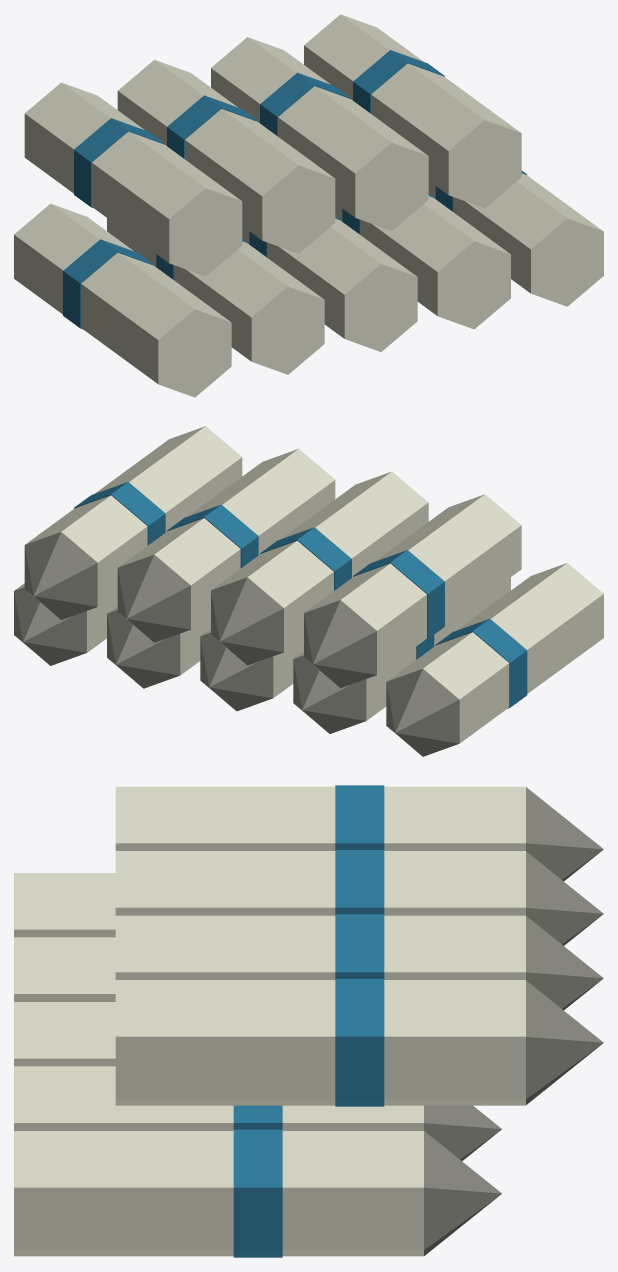
The model's file is ce_ammo_chcells_ion_b.obj.
The picture shows the model from 3 angles, top to bottom: view 1: azimuth 30°, elevation 25°; view 2: azimuth 150°, elevation 25°; view 3: azimuth 270°, elevation 25°; orthographic projection. The views are drawn at different scales.
Parts seen in each view (by area): view 1: ce_ammo_chcells_ion_b_20, ce_ammo_chcells_ion_b_0, ce_ammo_chcells_ion_b_24, ce_ammo_chcells_ion_b_32, ce_ammo_chcells_ion_b_28, ce_ammo_chcells_ion_b_8, ce_ammo_chcells_ion_b_4, ce_ammo_chcells_ion_b_12, ce_ammo_chcells_ion_b_16, ce_ammo_chcells_ion_b_22, ce_ammo_chcells_ion_b_2, ce_ammo_chcells_ion_b_26 (+8 smaller); view 2: ce_ammo_chcells_ion_b_0, ce_ammo_chcells_ion_b_20, ce_ammo_chcells_ion_b_28, ce_ammo_chcells_ion_b_32, ce_ammo_chcells_ion_b_24, ce_ammo_chcells_ion_b_2, ce_ammo_chcells_ion_b_22, ce_ammo_chcells_ion_b_34, ce_ammo_chcells_ion_b_30, ce_ammo_chcells_ion_b_26, ce_ammo_chcells_ion_b_3, ce_ammo_chcells_ion_b_31 (+17 smaller); view 3: ce_ammo_chcells_ion_b_32, ce_ammo_chcells_ion_b_16, ce_ammo_chcells_ion_b_34, ce_ammo_chcells_ion_b_18, ce_ammo_chcells_ion_b_24, ce_ammo_chcells_ion_b_20, ce_ammo_chcells_ion_b_28, ce_ammo_chcells_ion_b_12, ce_ammo_chcells_ion_b_22, ce_ammo_chcells_ion_b_26, ce_ammo_chcells_ion_b_30, ce_ammo_chcells_ion_b_0 (+15 smaller).
Boxes of the visible parts, x1,y1,x2,y2 form: ce_ammo_chcells_ion_b_20: (91, 131, 242, 276); ce_ammo_chcells_ion_b_0: (81, 252, 231, 397); ce_ammo_chcells_ion_b_24: (185, 109, 335, 253); ce_ammo_chcells_ion_b_32: (371, 63, 521, 208); ce_ammo_chcells_ion_b_28: (278, 86, 428, 230); ce_ammo_chcells_ion_b_8: (267, 218, 417, 351); ce_ammo_chcells_ion_b_4: (174, 241, 324, 374); ce_ammo_chcells_ion_b_12: (360, 196, 510, 329); ce_ammo_chcells_ion_b_16: (453, 173, 603, 306); ce_ammo_chcells_ion_b_22: (24, 82, 144, 193); ce_ammo_chcells_ion_b_2: (14, 203, 133, 314); ce_ammo_chcells_ion_b_26: (117, 60, 237, 145); ce_ammo_chcells_ion_b_0: (456, 563, 603, 693); ce_ammo_chcells_ion_b_20: (374, 494, 521, 624); ce_ammo_chcells_ion_b_28: (188, 449, 335, 554); ce_ammo_chcells_ion_b_32: (95, 426, 242, 532); ce_ammo_chcells_ion_b_24: (281, 471, 428, 577); ce_ammo_chcells_ion_b_2: (387, 632, 509, 743); ce_ammo_chcells_ion_b_22: (305, 563, 426, 674); ce_ammo_chcells_ion_b_34: (25, 495, 147, 606); ce_ammo_chcells_ion_b_30: (118, 518, 240, 629); ce_ammo_chcells_ion_b_26: (212, 541, 333, 651); ce_ammo_chcells_ion_b_3: (386, 668, 459, 756); ce_ammo_chcells_ion_b_31: (117, 554, 190, 642); ce_ammo_chcells_ion_b_32: (115, 980, 335, 1105); ce_ammo_chcells_ion_b_16: (14, 1131, 233, 1256); ce_ammo_chcells_ion_b_34: (384, 980, 525, 1105); ce_ammo_chcells_ion_b_18: (282, 1131, 423, 1256); ce_ammo_chcells_ion_b_24: (115, 851, 335, 915); ce_ammo_chcells_ion_b_20: (115, 786, 335, 850); ce_ammo_chcells_ion_b_28: (115, 915, 335, 979); ce_ammo_chcells_ion_b_12: (14, 1066, 233, 1130); ce_ammo_chcells_ion_b_22: (384, 786, 525, 850); ce_ammo_chcells_ion_b_26: (384, 851, 525, 915); ce_ammo_chcells_ion_b_30: (384, 915, 525, 979); ce_ammo_chcells_ion_b_0: (14, 873, 115, 937).
Size of the model in its own units: 0.7202 by 0.2674 by 0.58.
